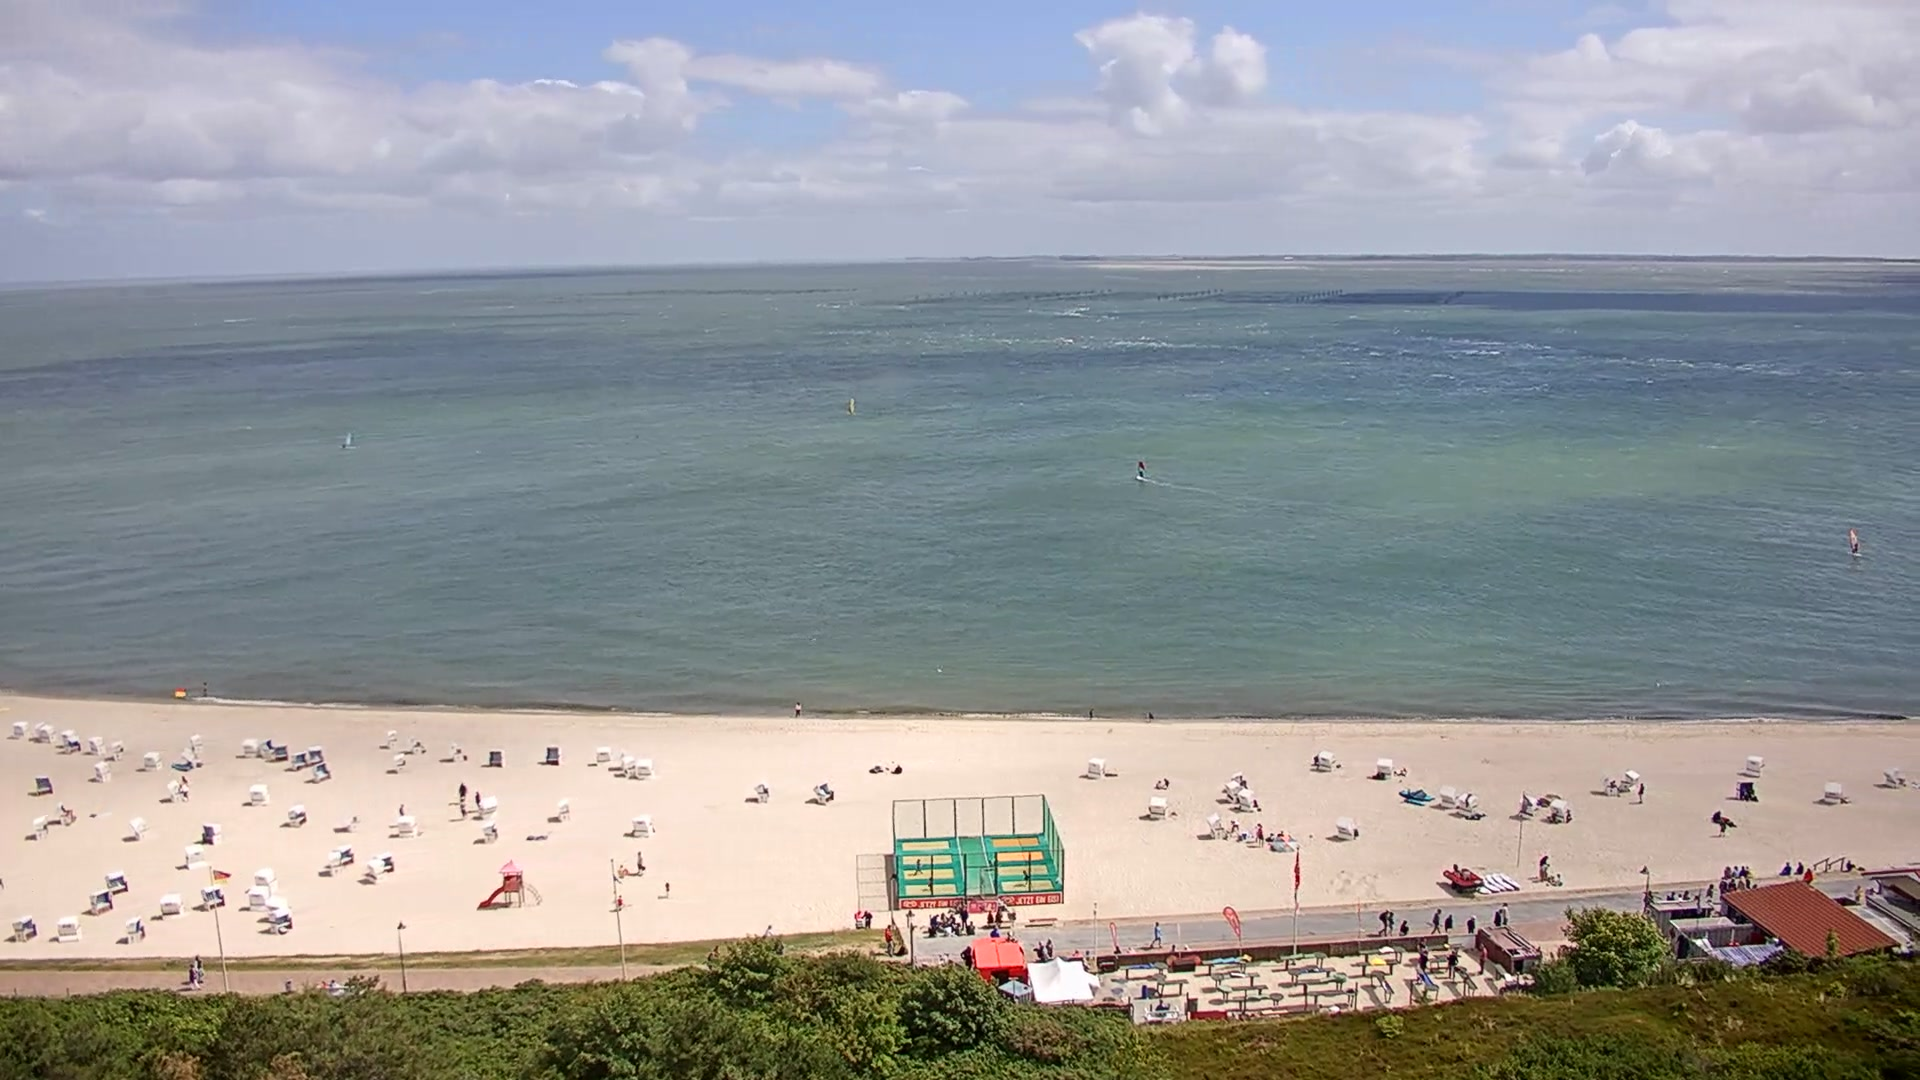human: (959, 942, 973, 972), (1445, 949, 1458, 982), (1476, 942, 1489, 975), (1030, 939, 1047, 962), (1148, 920, 1163, 948), (884, 922, 895, 955), (958, 904, 969, 932), (188, 962, 200, 990), (1431, 907, 1443, 934), (1378, 908, 1390, 935), (1154, 997, 1170, 1017), (1418, 950, 1429, 975), (179, 774, 190, 801), (635, 848, 645, 876), (1254, 821, 1265, 845), (1386, 909, 1395, 935), (1500, 901, 1510, 926), (195, 961, 206, 982), (862, 909, 873, 929), (474, 789, 482, 811), (458, 780, 467, 802), (913, 857, 923, 875), (1045, 936, 1054, 958), (1539, 862, 1550, 881), (1853, 883, 1862, 904), (1778, 861, 1791, 876), (951, 920, 962, 936), (1265, 831, 1276, 846), (1542, 853, 1549, 877), (853, 909, 862, 928), (1444, 912, 1453, 932), (1466, 914, 1476, 934), (1399, 918, 1410, 935), (762, 923, 774, 938), (930, 912, 939, 931), (985, 909, 994, 927), (1021, 868, 1030, 886), (1493, 908, 1502, 927), (459, 797, 467, 818), (995, 907, 1004, 928), (1416, 935, 1427, 951), (1793, 860, 1804, 875), (1637, 781, 1645, 802), (1718, 876, 1727, 893), (1705, 882, 1714, 899), (1718, 818, 1726, 837), (618, 863, 629, 877), (1552, 872, 1563, 886), (1721, 864, 1732, 878), (328, 978, 340, 990), (927, 924, 937, 937), (1167, 943, 1180, 953), (1845, 858, 1856, 871), (615, 893, 623, 910), (794, 701, 802, 719), (705, 951, 715, 965), (966, 920, 976, 935), (1737, 875, 1746, 890), (1728, 877, 1737, 891), (940, 910, 948, 926), (947, 912, 957, 924), (990, 925, 1000, 938), (190, 951, 204, 959), (398, 802, 406, 816), (712, 944, 720, 957), (1154, 779, 1164, 789), (1125, 946, 1136, 955), (1181, 944, 1192, 953), (1666, 890, 1676, 900), (927, 876, 934, 890), (1738, 864, 1746, 876), (1731, 864, 1738, 877), (1609, 779, 1618, 789), (1682, 889, 1691, 900), (1744, 865, 1751, 877), (1744, 877, 1751, 889), (1113, 945, 1122, 954), (1072, 949, 1081, 958), (321, 978, 328, 988), (1085, 949, 1092, 960), (1089, 707, 1094, 719), (1163, 777, 1169, 789), (1148, 711, 1154, 722), (1676, 892, 1682, 901), (1280, 826, 1284, 838), (1276, 831, 1280, 841)
sea: (1442, 863, 1484, 888), (1846, 527, 1863, 557), (1134, 458, 1150, 482), (844, 396, 860, 417), (342, 431, 358, 449)
